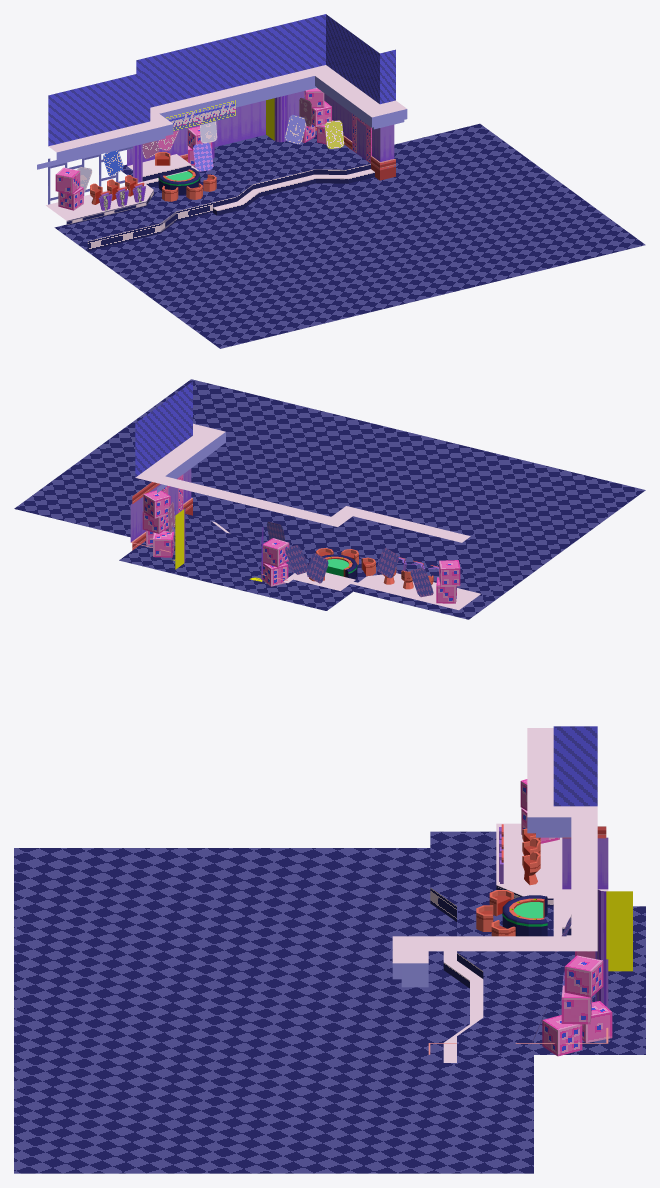
The model's file is rg_stage.gltf.
3 views of the same model, one above another, from view 1: azimuth 30°, elevation 25°; view 2: azimuth 150°, elevation 25°; view 3: azimuth 270°, elevation 25° (orthographic). The views are drawn at different scales.
Visible parts, largest first — view 1: plane (×2), table, group; view 2: plane, table; view 3: plane, table.
Part boxes in pixels (x1,y1,x2,y2): plane (×2): (37, 14, 645, 348); table: (158, 167, 200, 194); group: (98, 182, 145, 210); plane: (14, 379, 645, 619); table: (322, 554, 357, 579); plane: (14, 726, 645, 1173); table: (502, 895, 547, 936).
Size of the model in its own units: 27.77 by 7.64 by 21.89.
23 materials, 23 textured.
